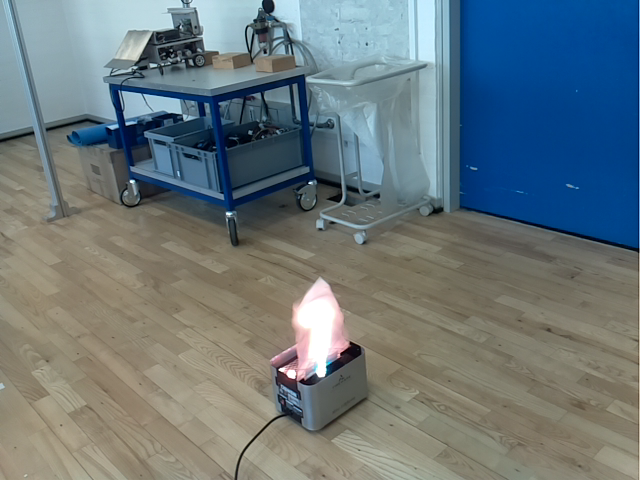fire: (291, 275, 351, 382)
